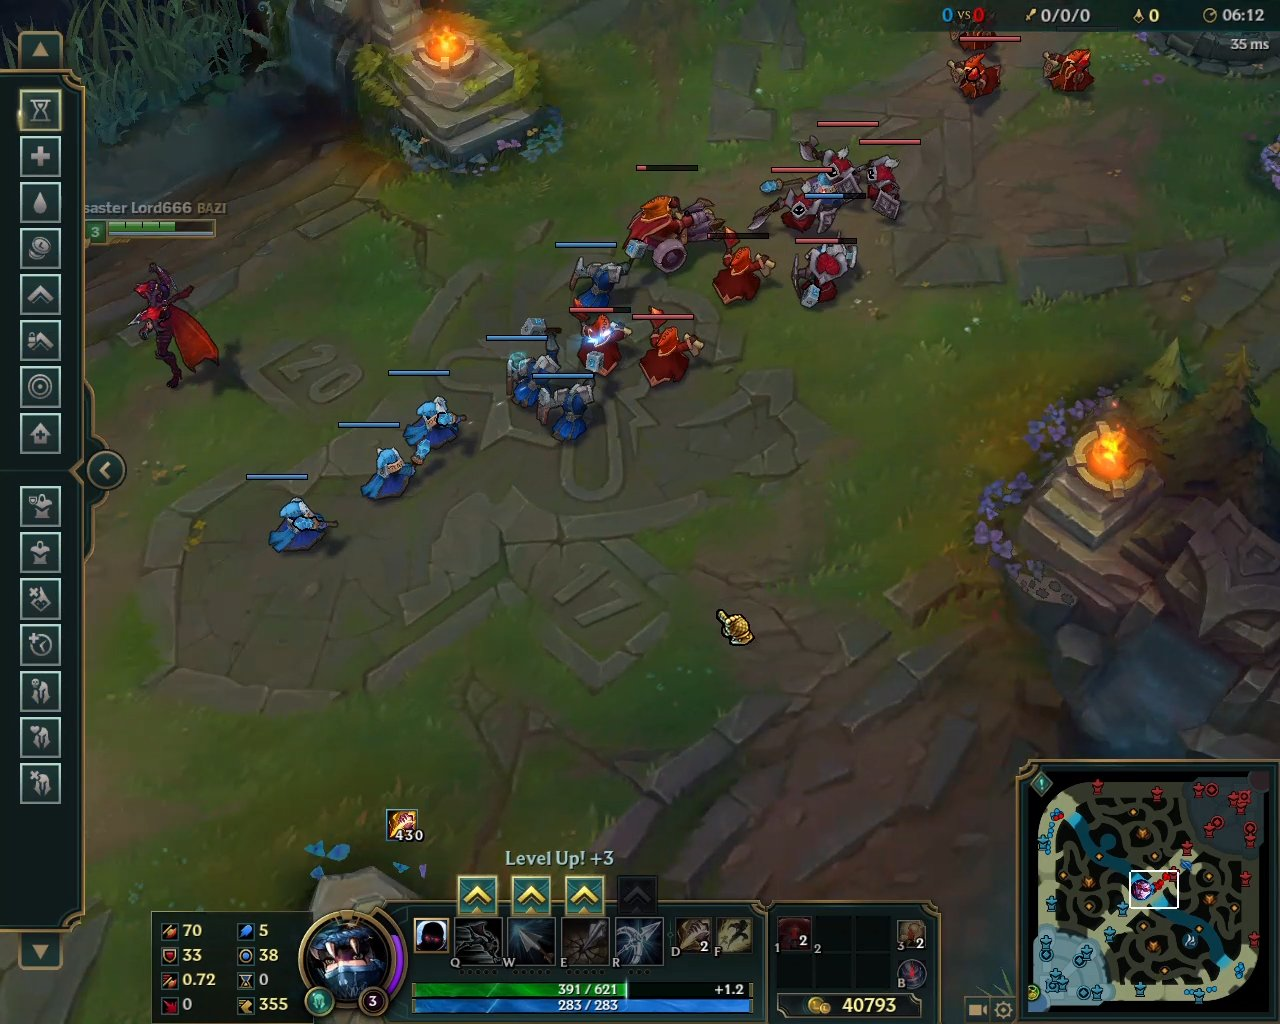EnemyMinion: (620, 160, 730, 275), (795, 117, 878, 203), (748, 166, 835, 243), (781, 234, 861, 316), (633, 304, 708, 390), (566, 299, 639, 381), (852, 138, 920, 223), (704, 232, 778, 308), (942, 36, 1020, 104)
Vayne: (120, 260, 233, 393)
